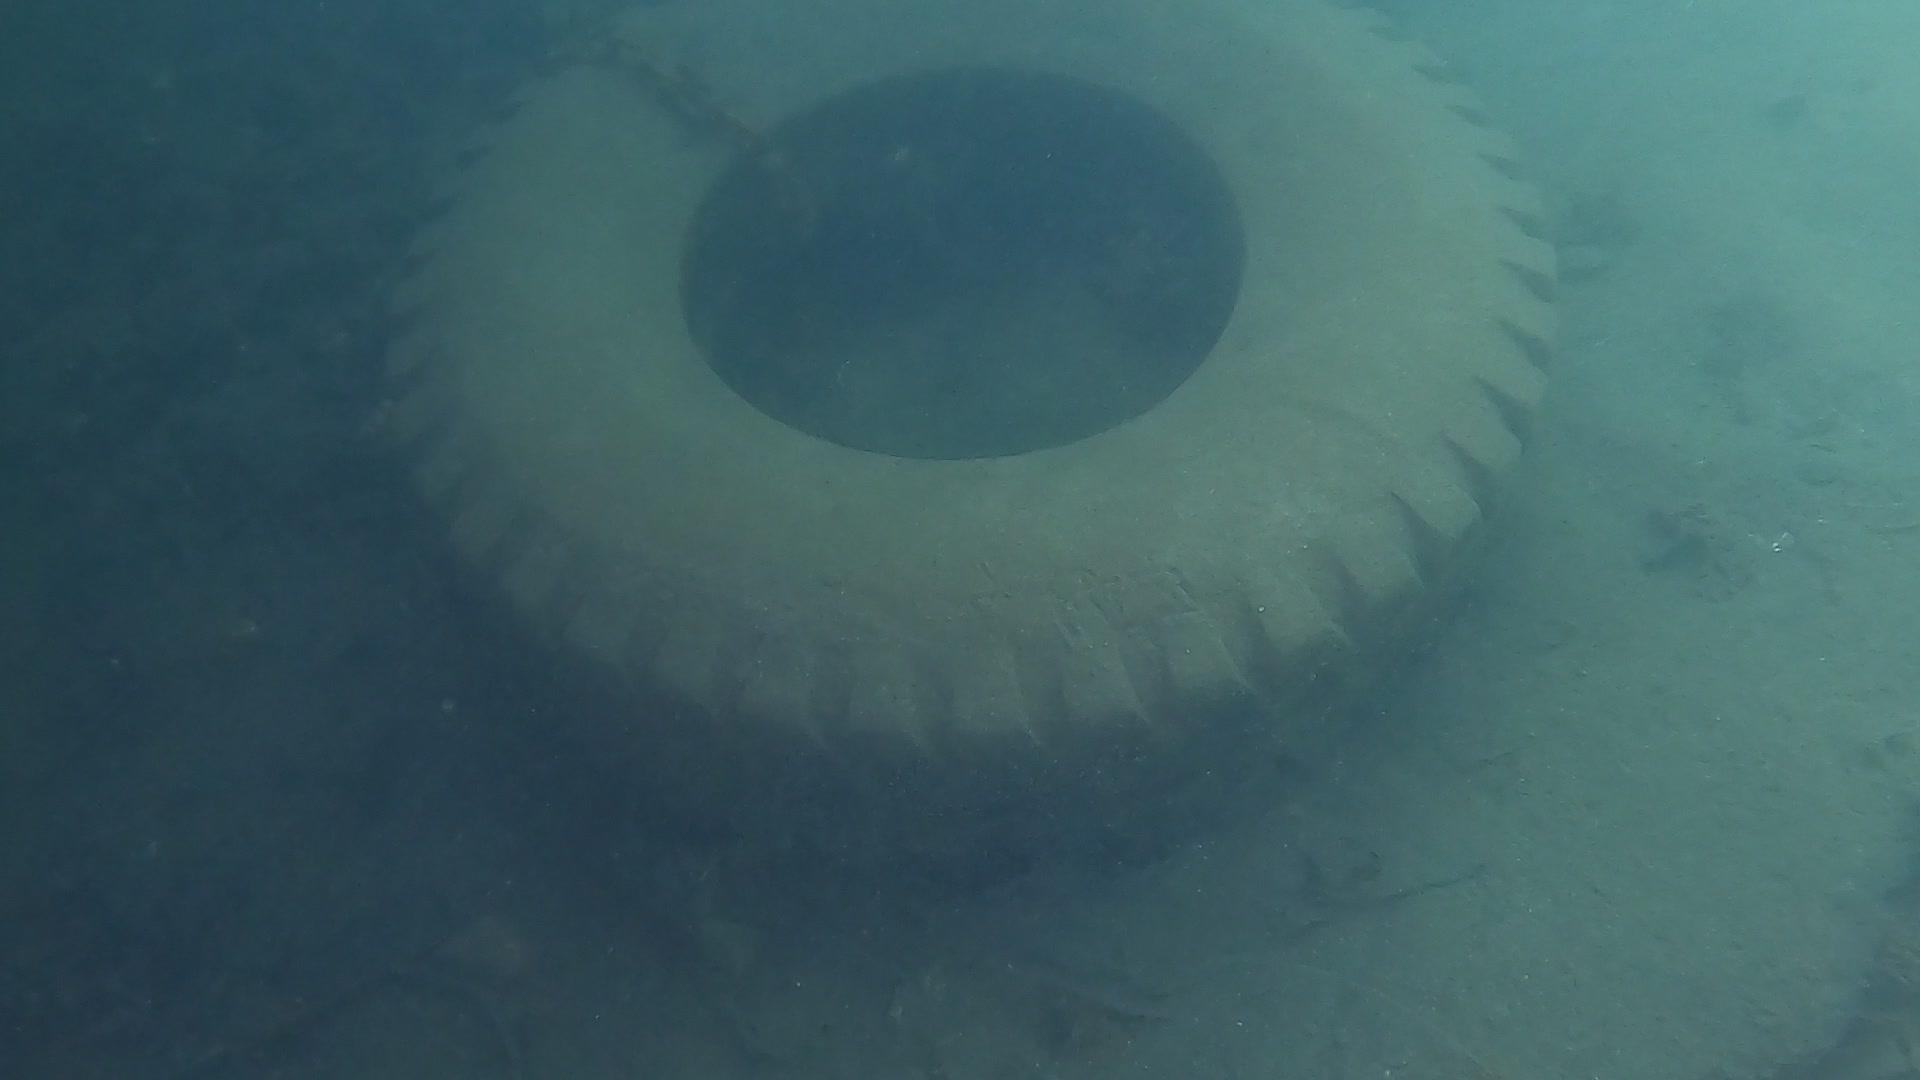tire: (377, 3, 1563, 818)
